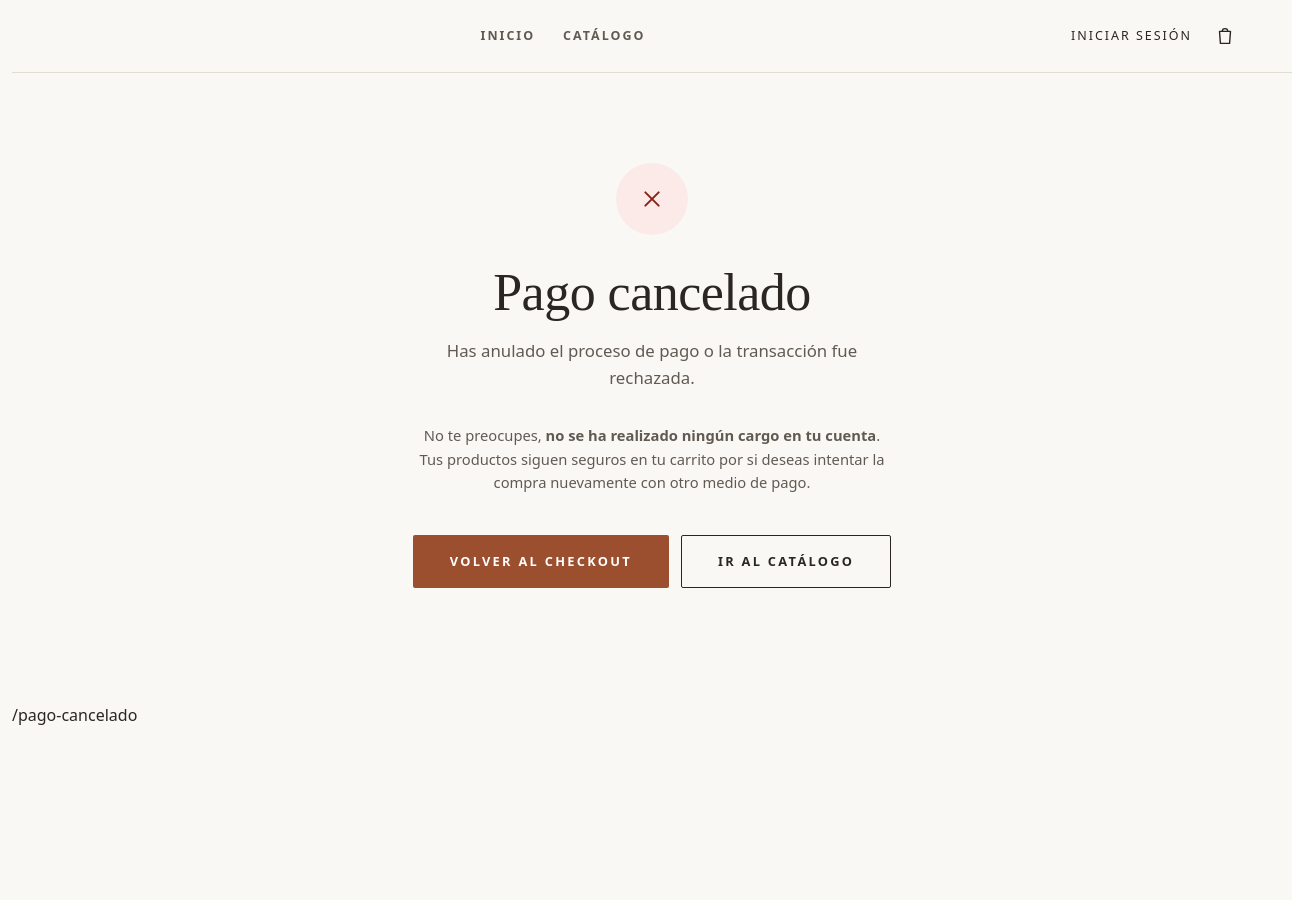
PagoCancelado › debe navegar al checkout al presionar el botón
This screenshot has width=1292, height=900.
Step 1. Click the button "Volver al checkout" → {"x": 541, "y": 561}, box [413,535,669,588]
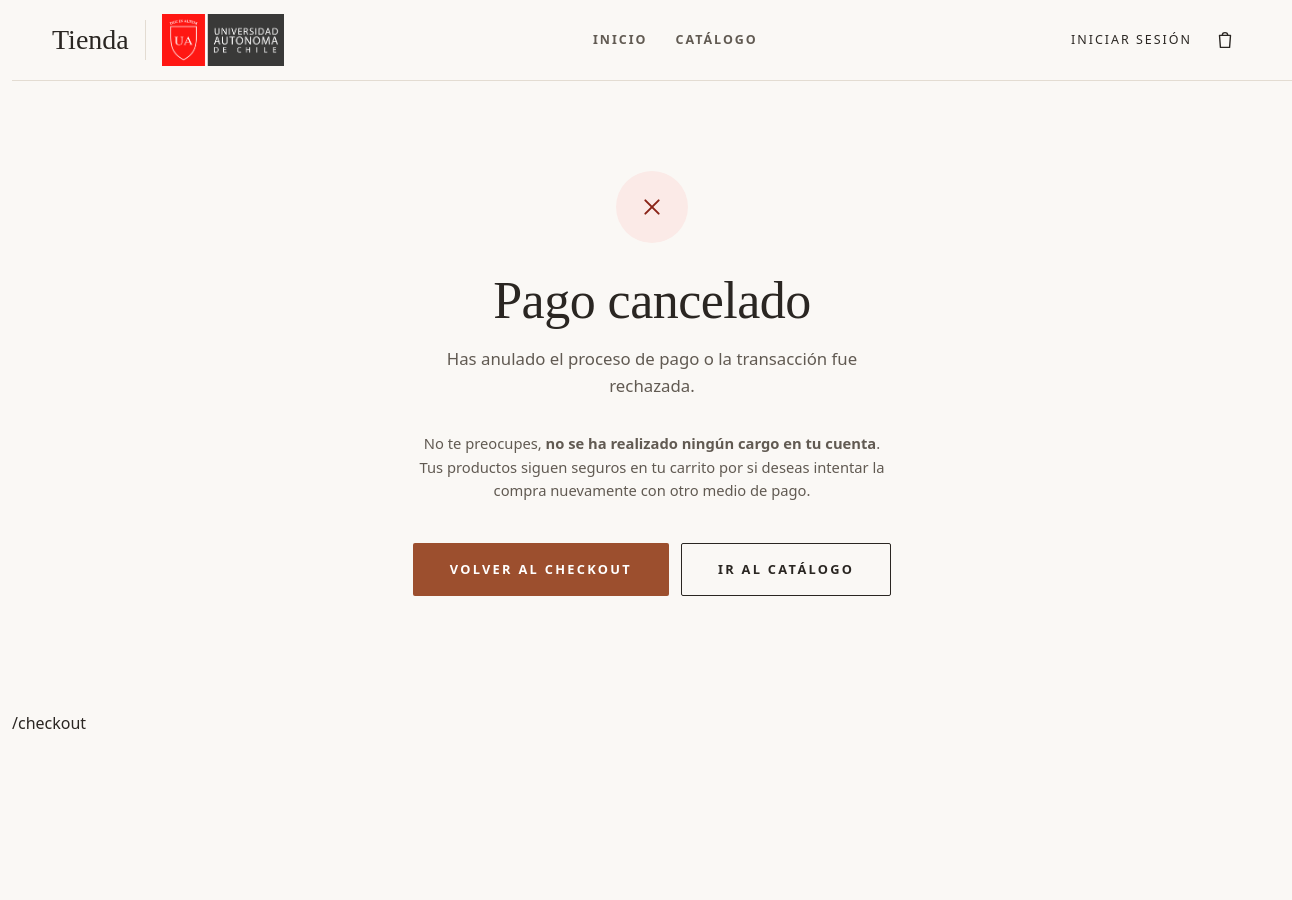
Check: the text with test id "location" reads "/checkout", box [12,712,86,734]
